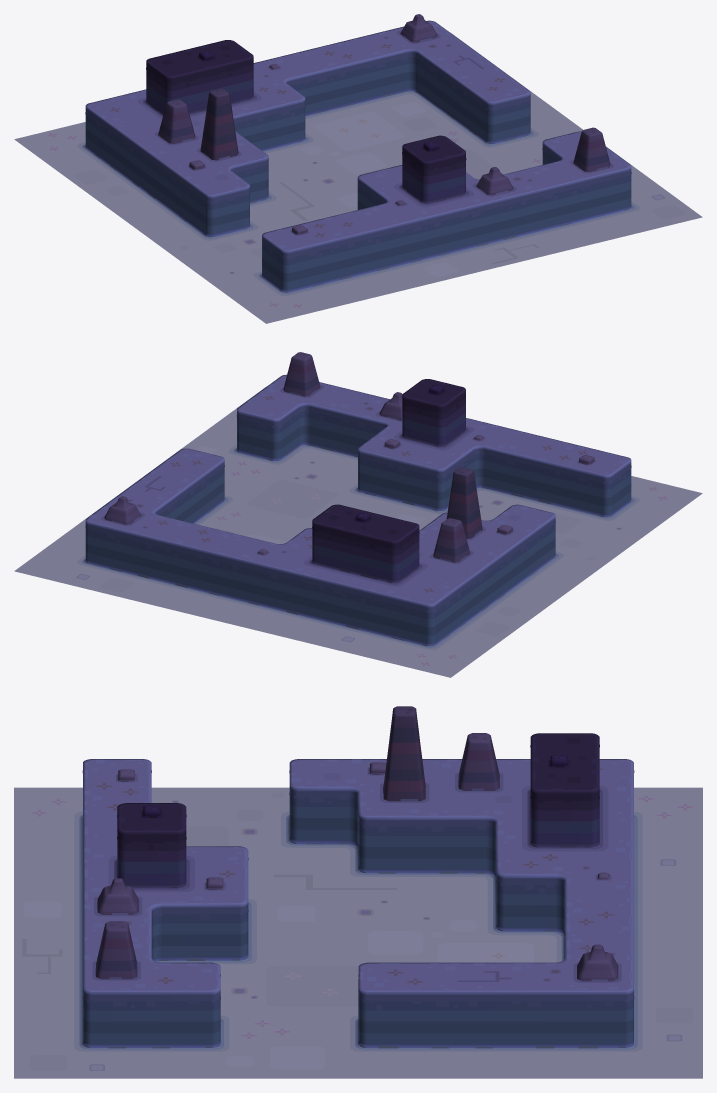
File: C_cave1_03.fbx
The picture shows the model from 3 angles, top to bottom: view 1: azimuth 30°, elevation 25°; view 2: azimuth 150°, elevation 25°; view 3: azimuth 270°, elevation 25°; orthographic projection. The views are drawn at different scales.
Parts seen in each view (by area): view 1: C_cave1_03; view 2: C_cave1_03; view 3: C_cave1_03.
Boxes of the visible parts, x1,y1,x2,y2 form: C_cave1_03: (14,14,702,323); C_cave1_03: (14,352,702,677); C_cave1_03: (14,706,702,1078).
Size of the model in its own units: 50 by 11.34 by 50.
